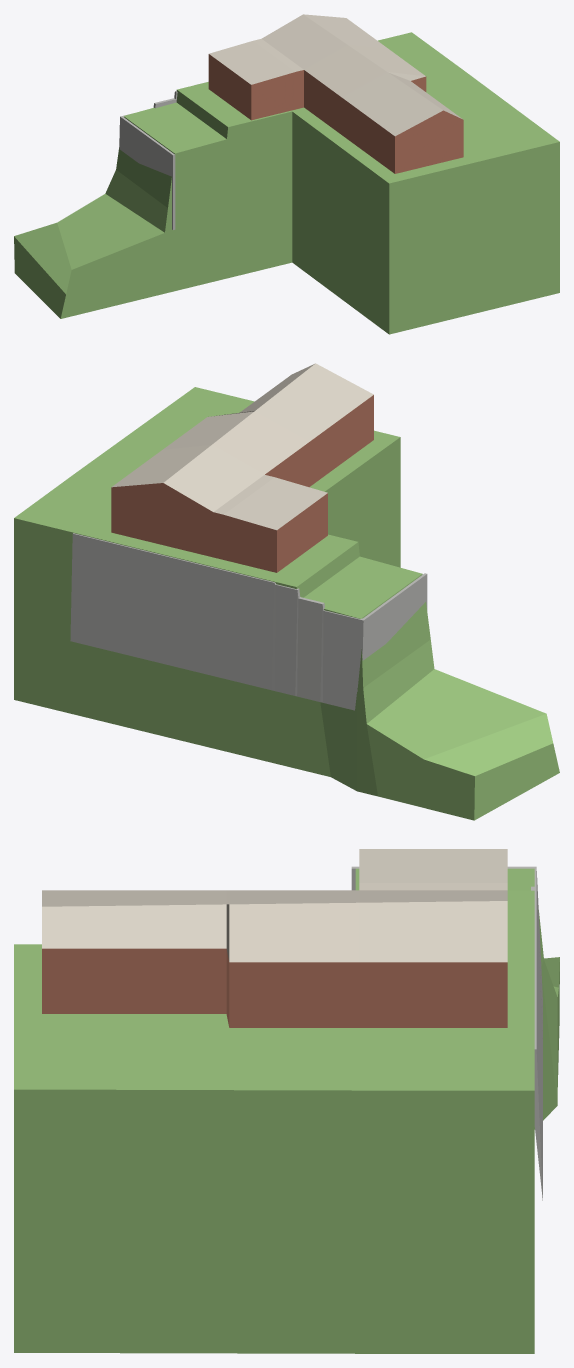
Rendered from neighbour.glb.
The picture shows the model from 3 angles, top to bottom: view 1: azimuth 30°, elevation 25°; view 2: azimuth 150°, elevation 25°; view 3: azimuth 270°, elevation 25°; orthographic projection. The views are drawn at different scales.
Parts seen in each view (by area): view 1: House underground, House002, Cube.166; view 2: House underground, Cube.166, House002; view 3: House underground, House002, Cube.166.
Boxes of the visible parts, box(x1,y1,x2,y2) form: House underground: box(14, 32, 559, 334); House002: box(208, 14, 463, 173); Cube.166: box(119, 81, 208, 229); House underground: box(14, 387, 559, 820); Cube.166: box(70, 533, 427, 710); House002: box(111, 363, 373, 572); House underground: box(14, 868, 559, 1353); House002: box(42, 849, 507, 1027); Cube.166: box(351, 866, 542, 1200).
Bounding box in the file's own units: 47.21 × 22.76 × 31.82.
